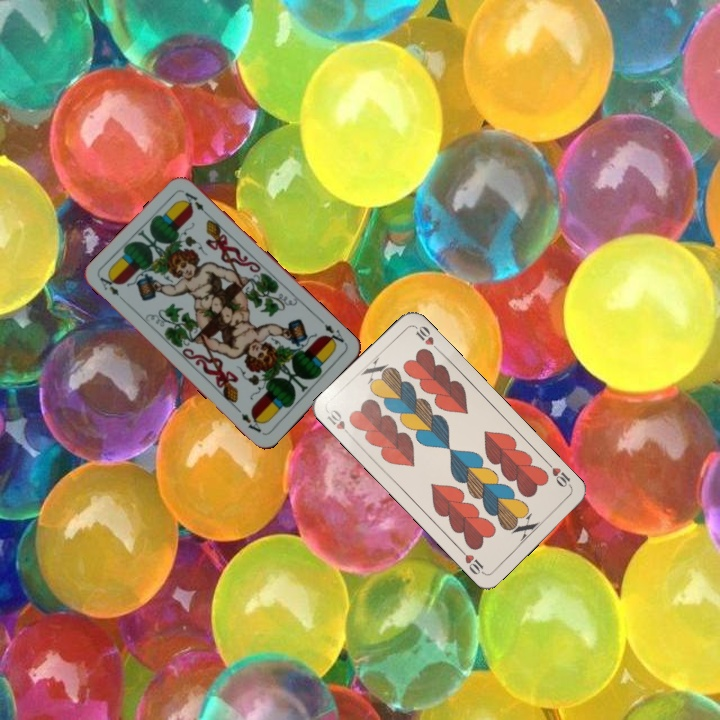EA: (96, 272, 128, 305), (317, 316, 346, 349)
H10: (323, 405, 355, 440), (543, 458, 574, 491)
